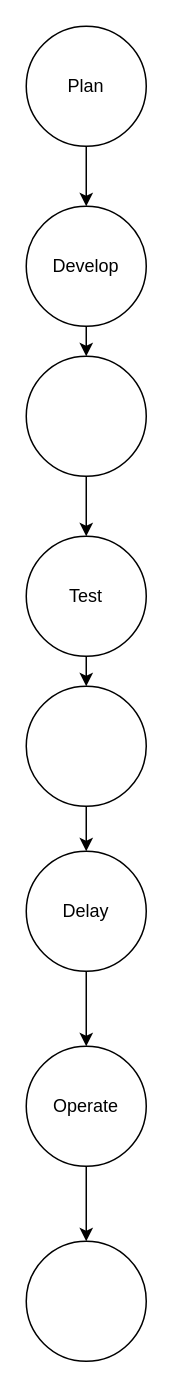
The diagram is 173 pixels wide and 1388 high, and some of its shapes have lost their labels. Each missing label, with the centre of its shape:
"Build" goes at point 85,415.
"Moniter" goes at point 85,1300.
"Release" goes at point 85,745.
